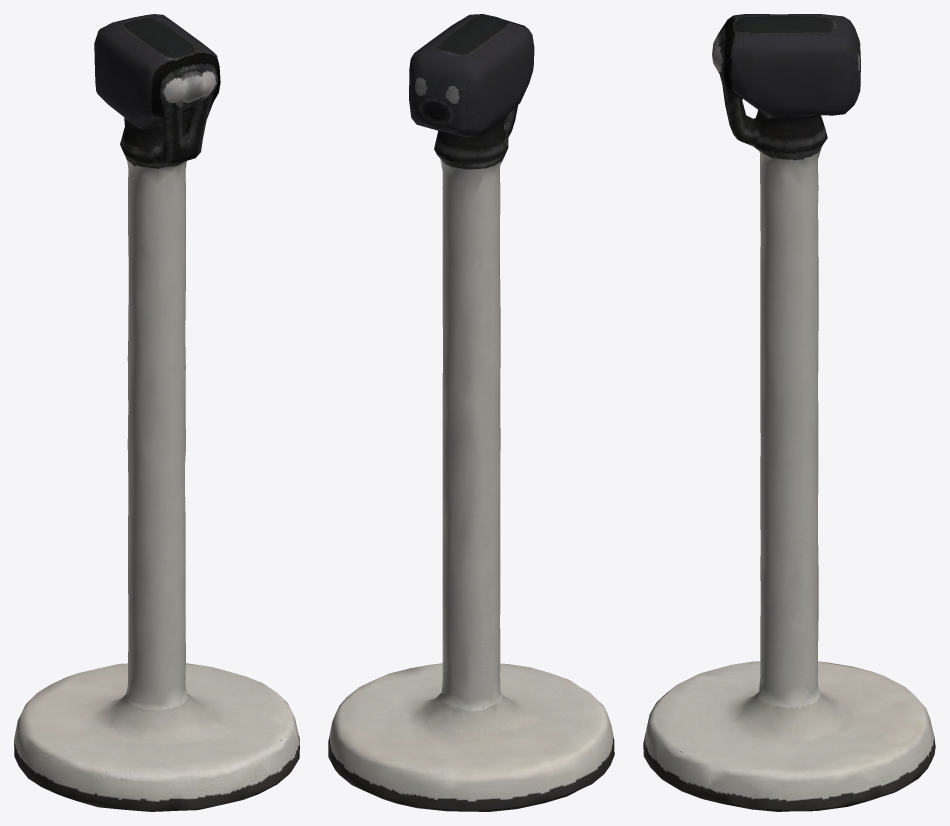
The model's file is stanchion.glb.
3 views of the same model, side by side, from view 1: azimuth 30°, elevation 25°; view 2: azimuth 150°, elevation 25°; view 3: azimuth 270°, elevation 25° (orthographic).
Size of the model in its own units: 0.3676 by 1.01 by 0.3681.
Materials: 1 (1 with a texture image).
